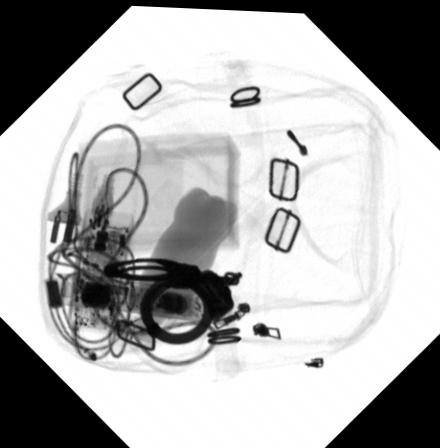Baton: (52, 271, 209, 323)
HandCuffs: (102, 255, 244, 342)
